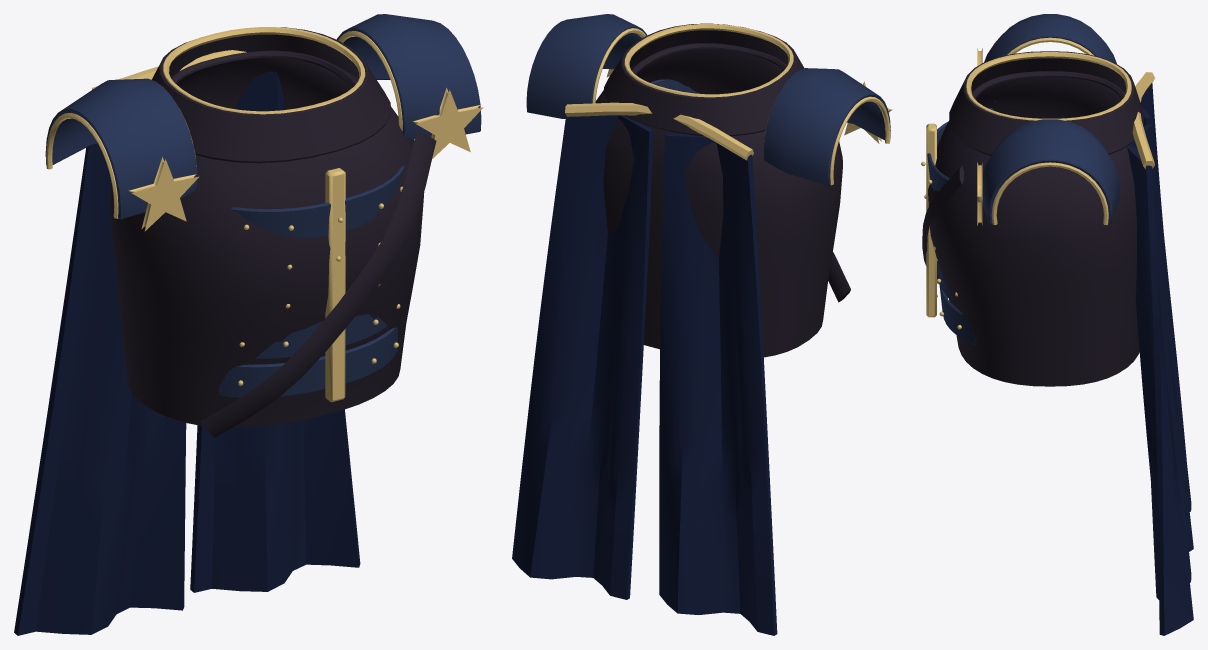
File: boss_starfall_hunter_armor.glb
The picture shows the model from 3 angles, left to right: view 1: azimuth 30°, elevation 25°; view 2: azimuth 150°, elevation 25°; view 3: azimuth 270°, elevation 25°; orthographic projection. The views are drawn at different scales.
Visible parts, largest first — view 1: boss_starfall_hunter_armor, AT_upper_arm_R, AT_upper_arm_L; view 2: boss_starfall_hunter_armor, AT_upper_arm_R, AT_upper_arm_L; view 3: boss_starfall_hunter_armor, AT_upper_arm_L, AT_upper_arm_R.
Part boxes in pixels (x1,y1,x2,y2): boss_starfall_hunter_armor: (14, 27, 436, 635); AT_upper_arm_R: (45, 78, 199, 231); AT_upper_arm_L: (337, 14, 483, 158); boss_starfall_hunter_armor: (512, 23, 850, 635); AT_upper_arm_R: (764, 68, 892, 185); AT_upper_arm_L: (526, 14, 646, 118); boss_starfall_hunter_armor: (921, 51, 1193, 635); AT_upper_arm_L: (977, 119, 1119, 225); AT_upper_arm_R: (977, 14, 1116, 101).
Size of the model in its own units: 0.6697 by 1.05 by 0.5243.
